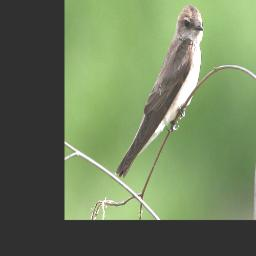Swallow: (113, 3, 204, 180)
